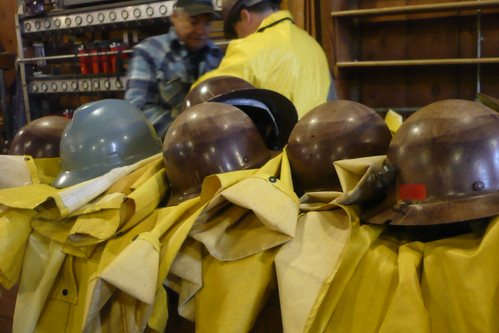hardhat: (360, 97, 499, 222), (153, 100, 276, 214), (283, 92, 388, 207), (186, 77, 308, 151), (55, 103, 162, 182), (7, 107, 80, 167)
person hardhat: (194, 1, 341, 111)
